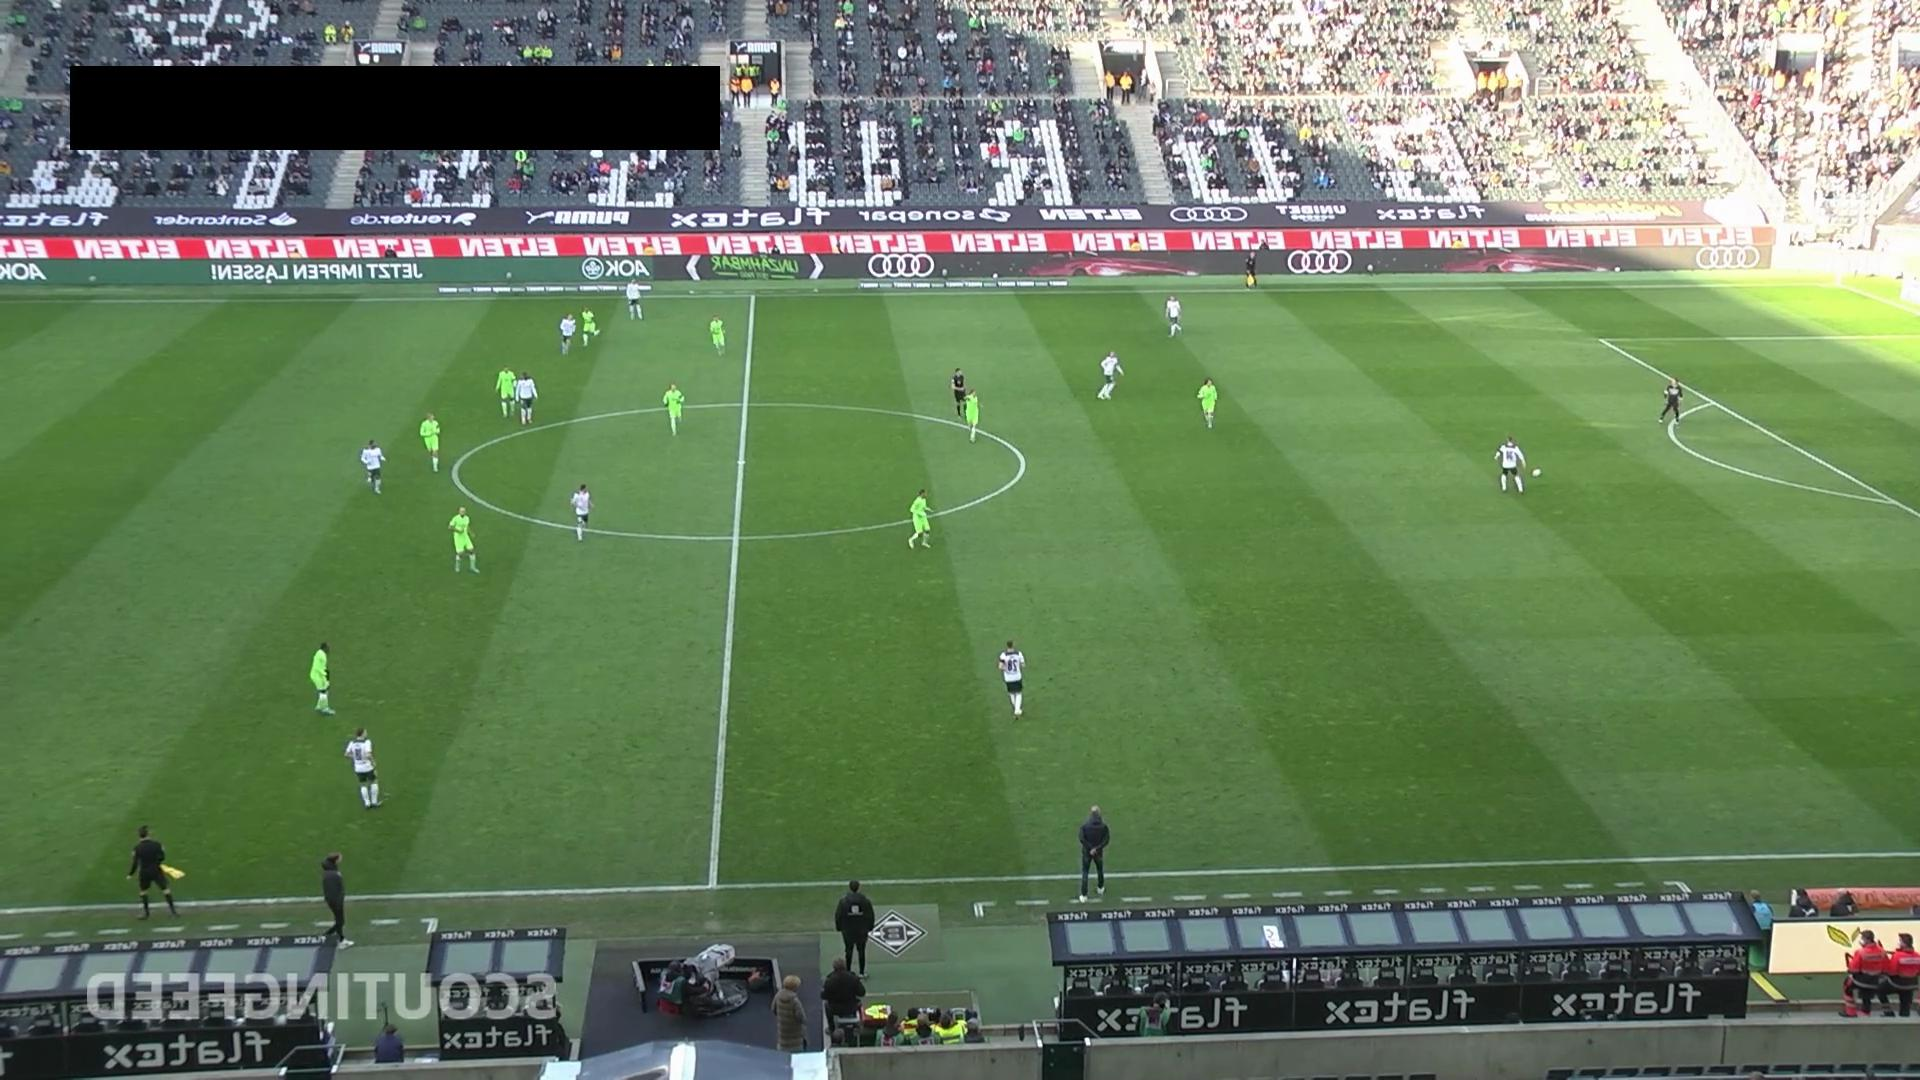ball: (1531, 466, 1543, 477)
goalkeeper: (1657, 377, 1683, 425)
player: (344, 727, 380, 810), (997, 639, 1030, 724), (448, 505, 482, 575), (1494, 435, 1526, 494), (310, 640, 335, 715), (907, 488, 936, 550), (360, 438, 387, 494), (1097, 350, 1124, 401), (420, 411, 441, 473), (570, 482, 592, 541), (514, 371, 538, 425), (663, 381, 685, 436), (495, 364, 517, 418), (1196, 377, 1218, 430), (964, 389, 980, 443), (626, 279, 646, 321), (1165, 294, 1183, 337), (709, 313, 726, 357), (559, 312, 576, 356), (581, 306, 599, 346)
referee: (127, 823, 187, 925), (949, 367, 967, 419), (1245, 251, 1258, 288)
